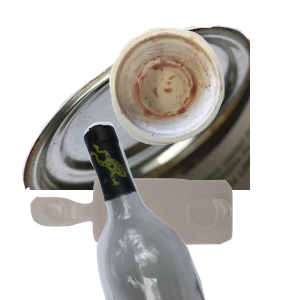glass: (81, 120, 300, 300)
metal: (19, 22, 259, 202)
plastic: (28, 176, 253, 300)
trash: (107, 25, 300, 162)
